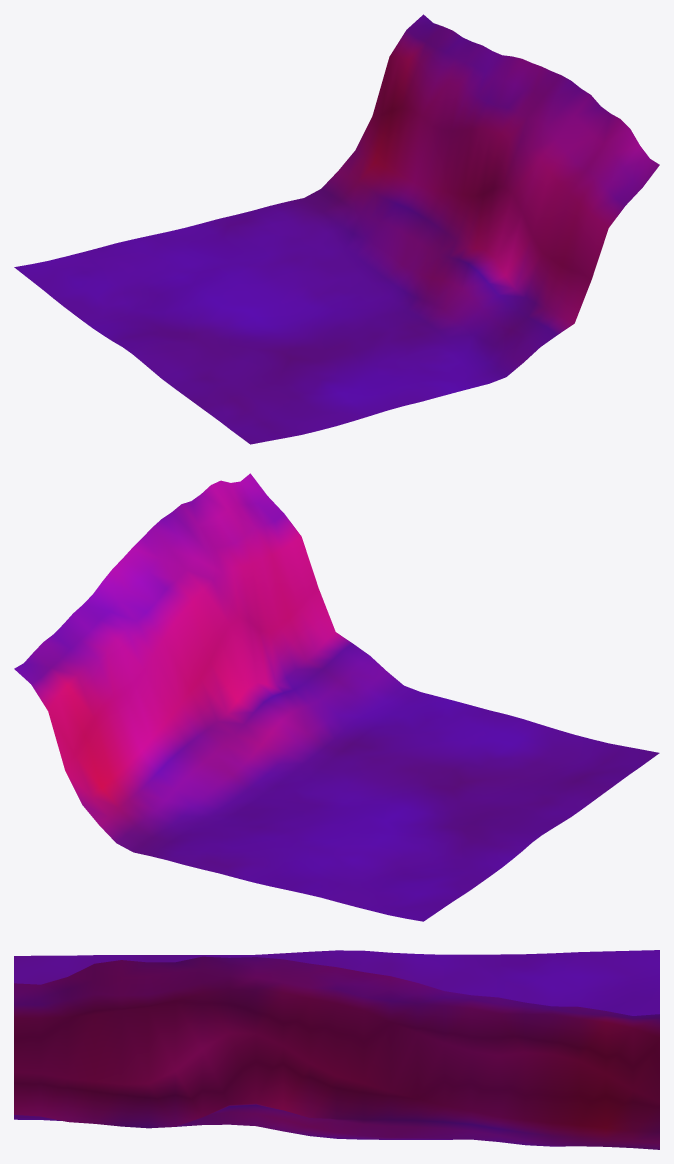
Rendered from ground_35.glb.
3 views of the same model, one above another, from view 1: azimuth 30°, elevation 25°; view 2: azimuth 150°, elevation 25°; view 3: azimuth 270°, elevation 25° (orthographic). The views are drawn at different scales.
Visible parts, largest first — view 1: Ground_35; view 2: Ground_35; view 3: Ground_35.
Part boxes in pixels (bbox=[...]): Ground_35: bbox=[14, 14, 659, 444]; Ground_35: bbox=[14, 473, 659, 921]; Ground_35: bbox=[14, 950, 659, 1149].
Size of what is drawn, in the model's own units: 24 by 11.32 by 24.
